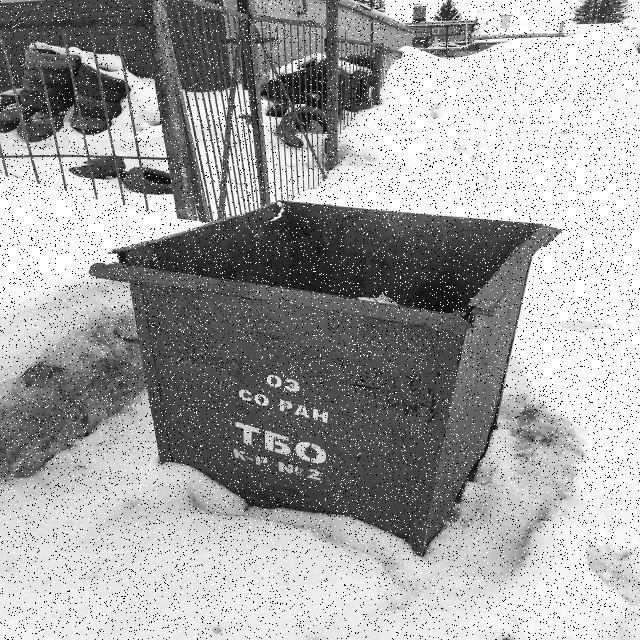Trashcan: (73, 158, 576, 564)
